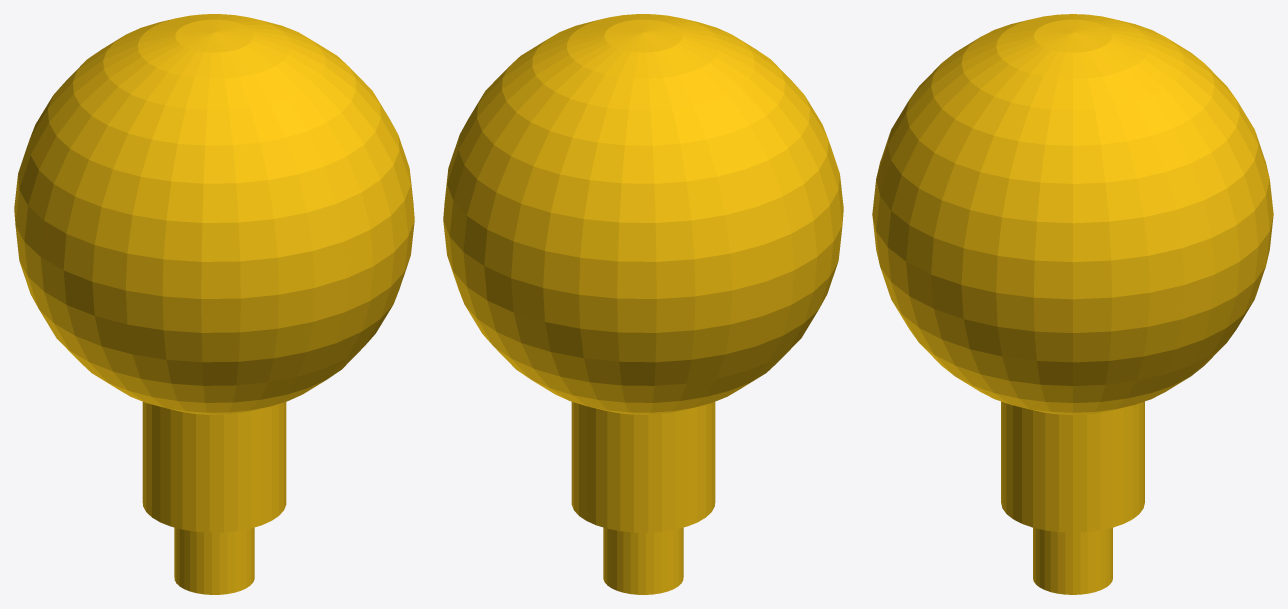
File: Light.obj
3 renders of one model, left to right at view 1: azimuth 30°, elevation 25°; view 2: azimuth 150°, elevation 25°; view 3: azimuth 270°, elevation 25°, orthographic.
Parts seen in each view (by area): view 1: Sphere, Cylinder, Cylinder.001; view 2: Sphere, Cylinder, Cylinder.001; view 3: Sphere, Cylinder, Cylinder.001.
Part boxes in pixels (x1,y1,x2,y2): Sphere: (14, 14, 414, 414); Cylinder: (142, 402, 286, 532); Cylinder.001: (174, 527, 254, 594); Sphere: (443, 14, 843, 414); Cylinder: (571, 402, 715, 532); Cylinder.001: (603, 527, 683, 594); Sphere: (872, 14, 1273, 414); Cylinder: (1001, 401, 1144, 532); Cylinder.001: (1033, 527, 1112, 594).
Size of the model in its own units: 2 by 3 by 2.
Materials: 1 (1 with a texture image).
